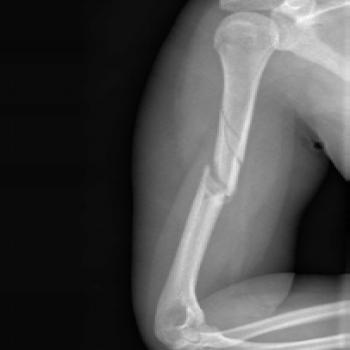Fracture: (192, 151, 244, 205)
